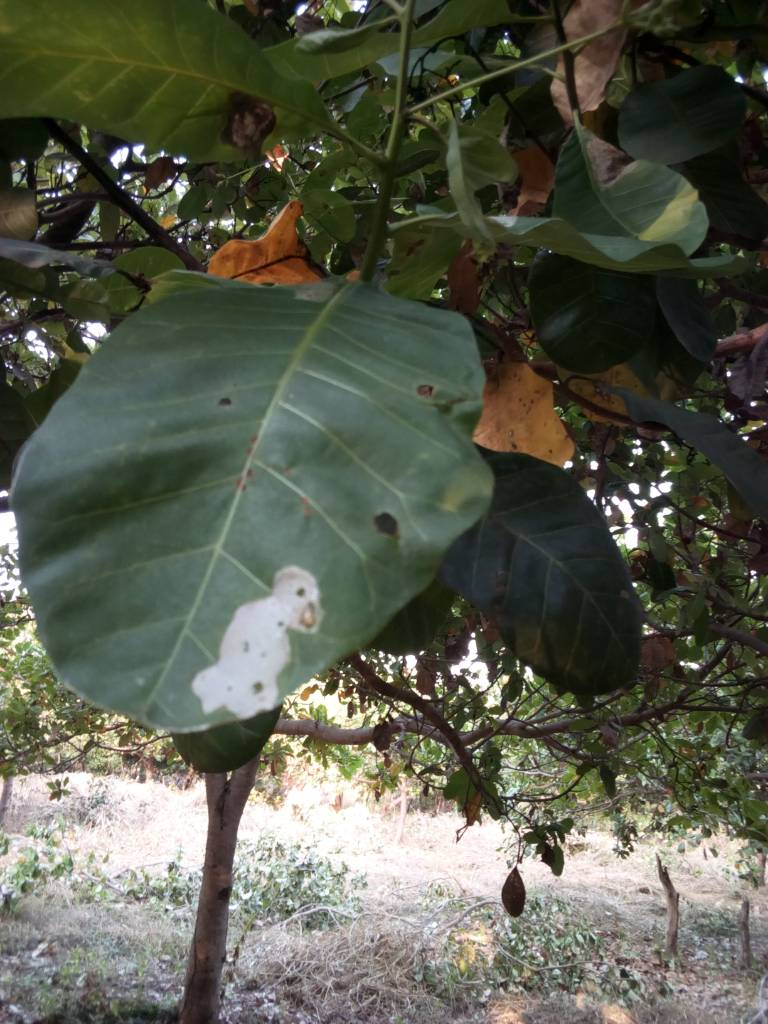Anoplocnemis curvipes: (191, 283, 449, 552)
